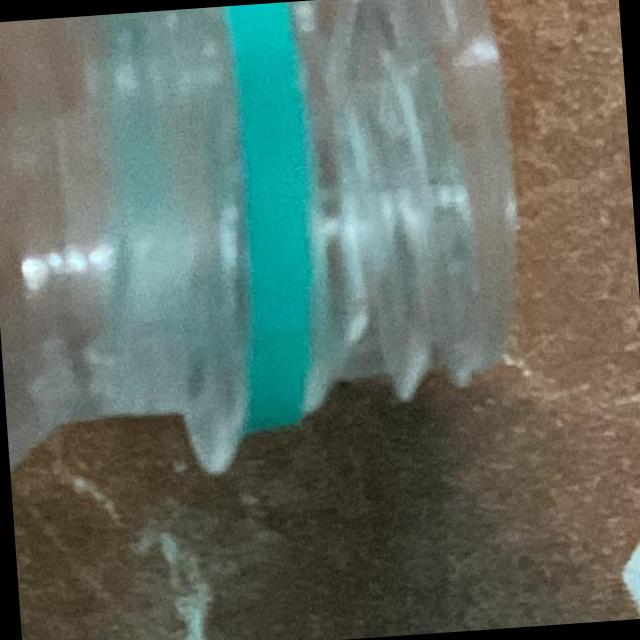open-cap: (185, 0, 532, 435)
